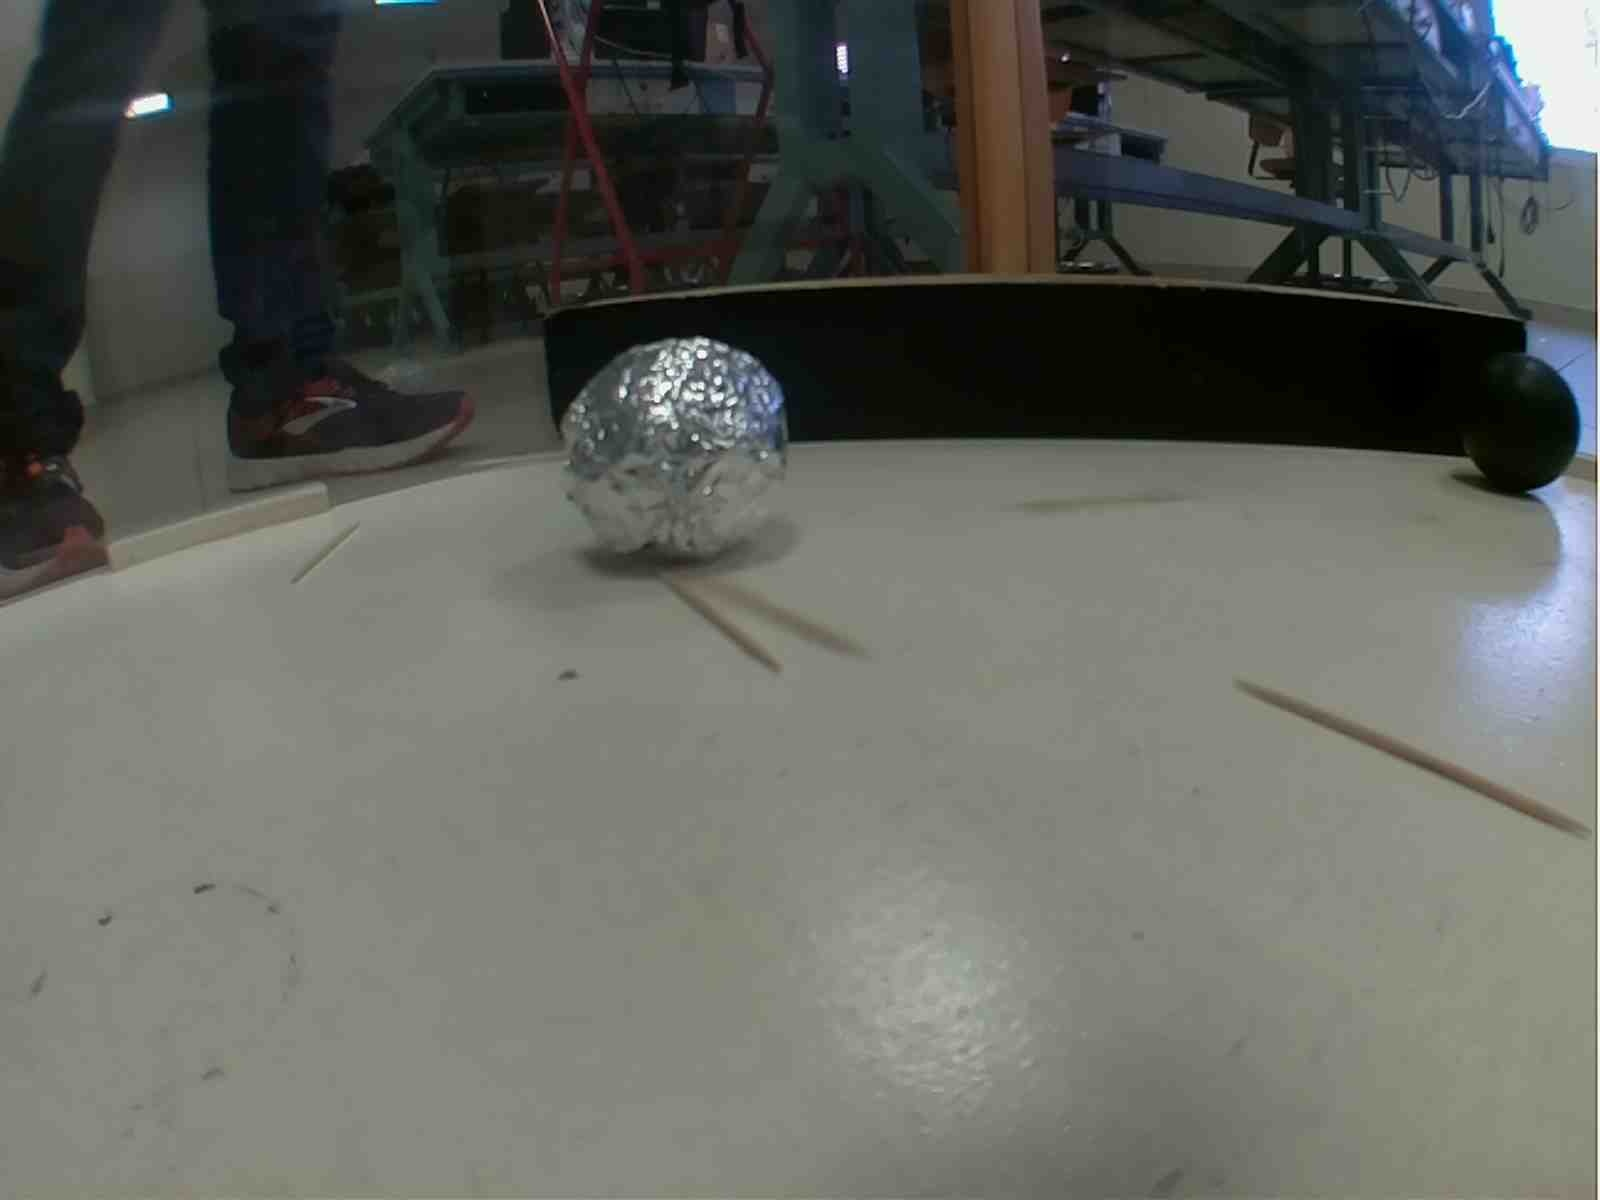bianca: (556, 337, 791, 568)
nera: (1455, 355, 1584, 494)
